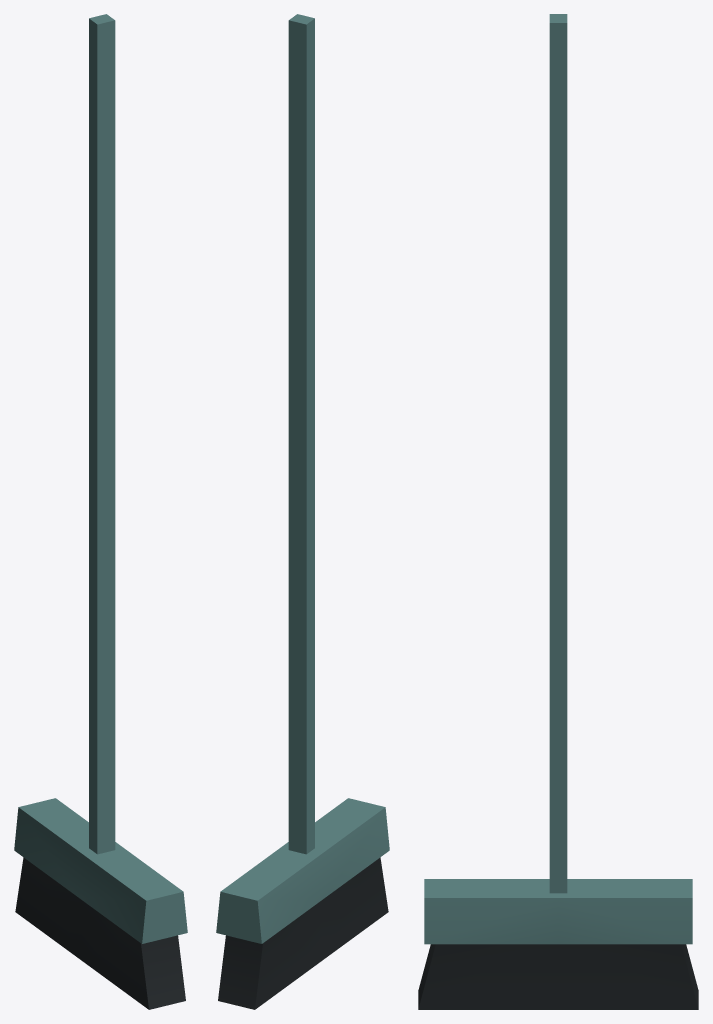
The model's file is broom.fbx.
The picture shows the model from 3 angles, left to right: view 1: azimuth 30°, elevation 25°; view 2: azimuth 150°, elevation 25°; view 3: azimuth 270°, elevation 25°; orthographic projection. The views are drawn at different scales.
Visible parts, largest first — view 1: pCube1; view 2: pCube1; view 3: pCube1.
Boxes of the visible parts, bbox=[...] form: pCube1: bbox=[14, 14, 187, 1009]; pCube1: bbox=[216, 14, 389, 1009]; pCube1: bbox=[418, 14, 698, 1009].
Bounding box in the file's own units: 0.7345 × 14.37 × 3.72.
